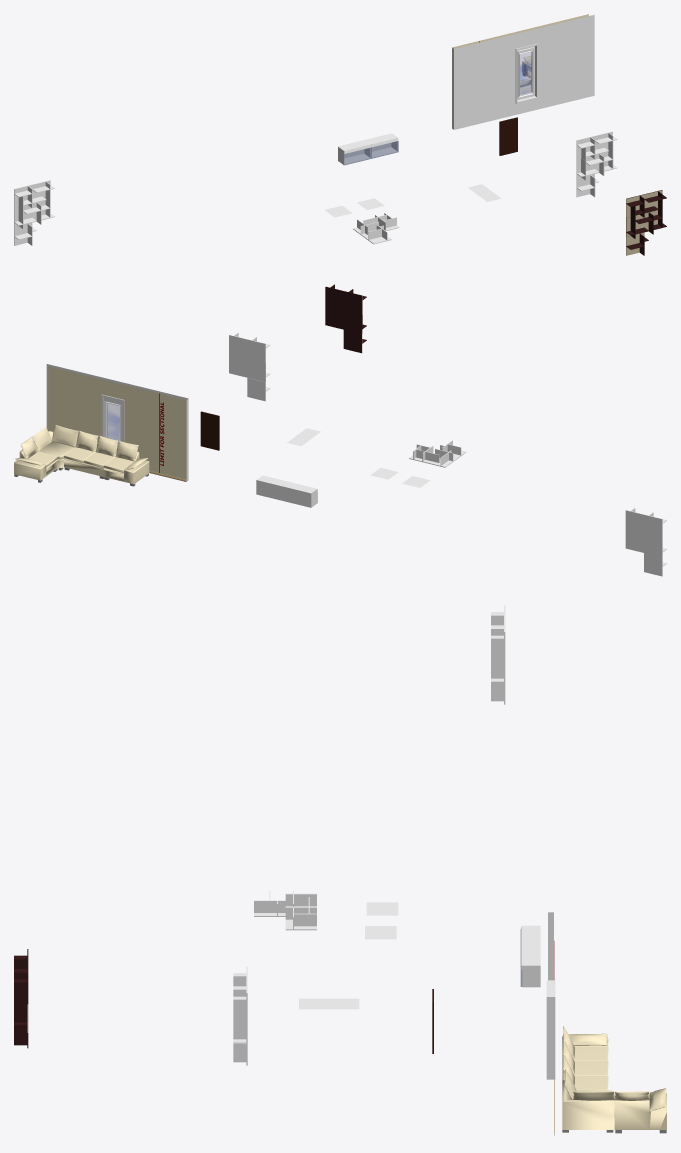
The model's file is sofa.obj.
3 views of the same model, one above another, from view 1: azimuth 30°, elevation 25°; view 2: azimuth 150°, elevation 25°; view 3: azimuth 270°, elevation 25° (orthographic). The views are drawn at different scales.
Parts seen in each view (by area): view 1: Mesh64 Model, Mesh45 Group54 Group52 Model, Mesh46 Group56 Group55 Model, Mesh1 Group2 Group1 Model, Mesh44 Group53 Group52 Model, Mesh34 Group46 Model, Mesh43 Group51 Model, Mesh32 Group44 Group43 Group37 Model, Mesh35 Group47 Model, Mesh33 Group45 Group43 Group37 Model, Mesh39 Group51 Model, Mesh37 Group49 Model (+5 smaller); view 2: Mesh64 Model, Mesh46 Group56 Group55 Model, Mesh45 Group54 Group52 Model, Mesh14 Group12 Group3 Model, Mesh25 Group28 Group3 Model, Mesh44 Group53 Group52 Model, Mesh1 Group2 Group1 Model; view 3: Mesh10 Group4 Group3 Model, Mesh14 Group12 Group3 Model, Mesh64 Model, Mesh44 Group53 Group52 Model, Mesh26 Group34 Group33 Model.
Part boxes in pixels (left/top/right/bottom): Mesh64 Model: left=452, top=14, right=594, bottom=129; Mesh45 Group54 Group52 Model: left=338, top=140, right=371, bottom=165; Mesh46 Group56 Group55 Model: left=499, top=117, right=517, bottom=155; Mesh1 Group2 Group1 Model: left=519, top=50, right=532, bottom=96; Mesh44 Group53 Group52 Model: left=365, top=133, right=398, bottom=158; Mesh34 Group46 Model: left=576, top=136, right=599, bottom=161; Mesh43 Group51 Model: left=626, top=194, right=648, bottom=219; Mesh32 Group44 Group43 Group37 Model: left=14, top=184, right=36, bottom=210; Mesh35 Group47 Model: left=576, top=174, right=599, bottom=197; Mesh33 Group45 Group43 Group37 Model: left=32, top=180, right=54, bottom=203; Mesh39 Group51 Model: left=644, top=190, right=666, bottom=213; Mesh37 Group49 Model: left=576, top=156, right=599, bottom=180; Mesh64 Model: left=46, top=364, right=188, bottom=481; Mesh46 Group56 Group55 Model: left=200, top=411, right=219, bottom=450; Mesh45 Group54 Group52 Model: left=284, top=482, right=317, bottom=507; Mesh14 Group12 Group3 Model: left=14, top=449, right=57, bottom=482; Mesh25 Group28 Group3 Model: left=103, top=452, right=149, bottom=486; Mesh44 Group53 Group52 Model: left=256, top=475, right=289, bottom=500; Mesh1 Group2 Group1 Model: left=106, top=402, right=120, bottom=446; Mesh10 Group4 Group3 Model: left=562, top=1080, right=614, bottom=1129; Mesh14 Group12 Group3 Model: left=614, top=1093, right=666, bottom=1133; Mesh64 Model: left=546, top=912, right=555, bottom=1135; Mesh44 Group53 Group52 Model: left=520, top=945, right=540, bottom=987; Mesh26 Group34 Group33 Model: left=285, top=904, right=316, bottom=930.
Bounding box in the file's own units: 830 × 108 × 521.
